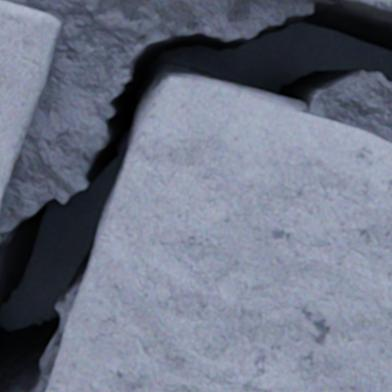brick: (46, 87, 391, 391), (0, 0, 61, 211), (347, 0, 391, 13)
crack: (0, 0, 391, 391)
